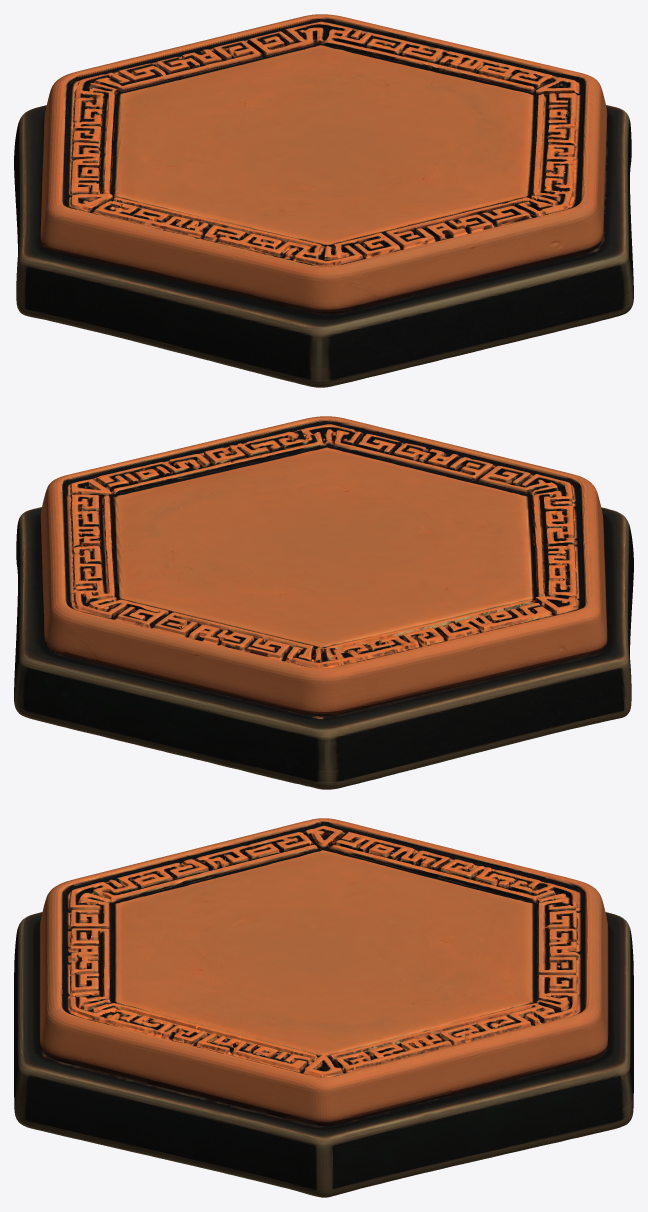
Rendered from PlainPottery.fbx.
The picture shows the model from 3 angles, top to bottom: view 1: azimuth 30°, elevation 25°; view 2: azimuth 150°, elevation 25°; view 3: azimuth 270°, elevation 25°; orthographic projection.
Parts seen in each view (by area): view 1: temp; view 2: temp; view 3: temp.
Part boxes in pixels (bbox=[...]): temp: bbox=[14, 14, 633, 387]; temp: bbox=[14, 416, 633, 789]; temp: bbox=[14, 818, 633, 1197].
Size of the model in its own units: 191 by 30.25 by 166.
Materials: 1 (1 with a texture image).
